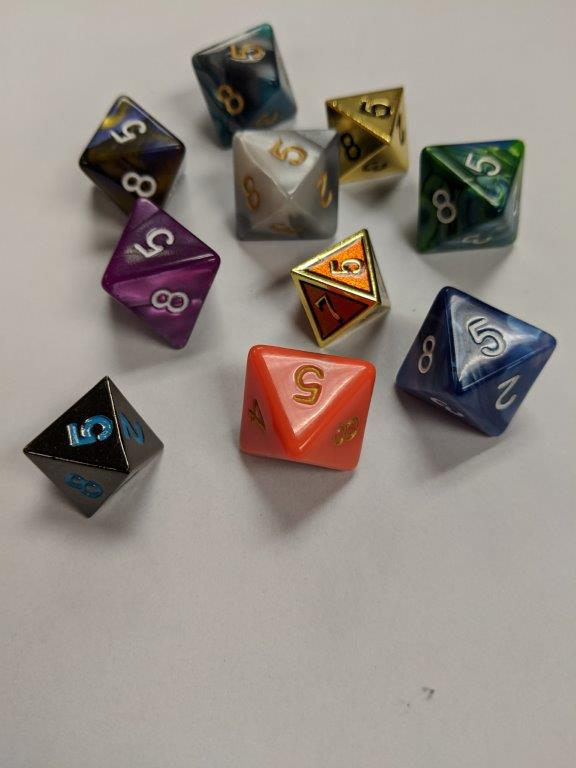d8-5: (397, 283, 556, 439), (24, 375, 166, 523), (97, 195, 220, 349), (235, 341, 381, 470), (186, 24, 297, 145), (80, 95, 186, 212), (288, 229, 391, 349), (420, 137, 522, 250), (233, 133, 333, 233), (328, 88, 413, 190)
